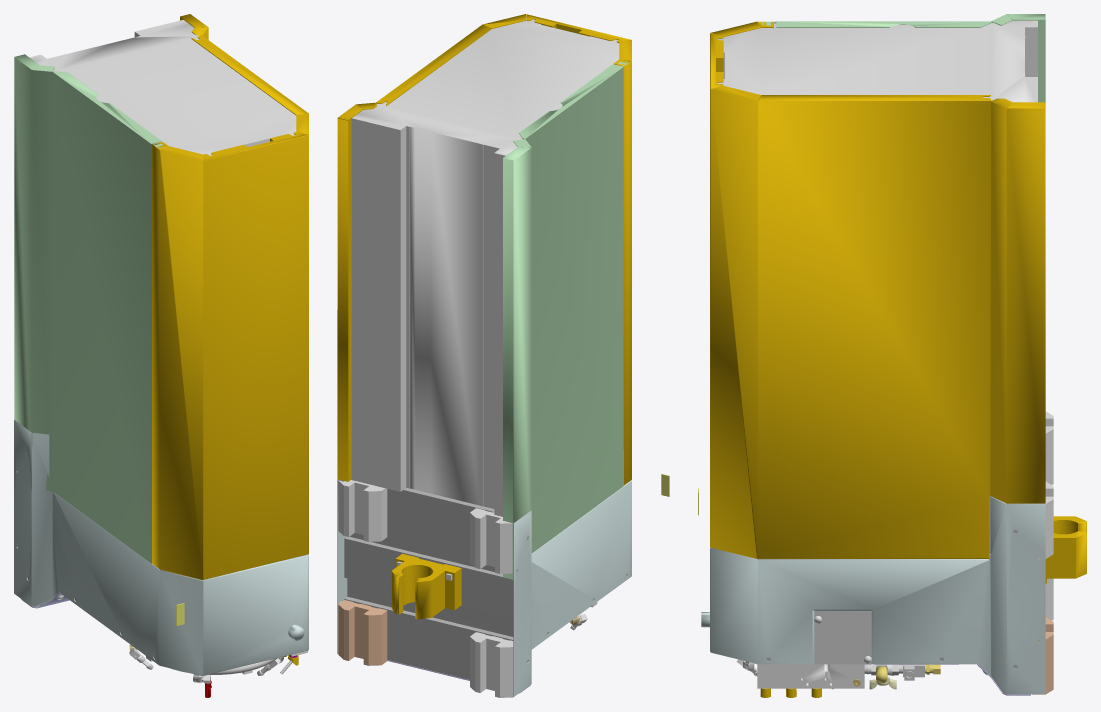
The model's file is head.dae.
The picture shows the model from 3 angles, left to right: view 1: azimuth 30°, elevation 25°; view 2: azimuth 150°, elevation 25°; view 3: azimuth 270°, elevation 25°; orthographic projection. The views are drawn at different scales.
Parts seen in each view (by area): view 1: Head; view 2: Head; view 3: Head.
Boxes of the visible parts, left/top/right/bottom form: Head: left=14, top=14, right=308, bottom=697; Head: left=337, top=14, right=669, bottom=697; Head: left=698, top=14, right=1086, bottom=697.
Bounding box in the file's own units: 0.4095 × 0.7139 × 1.26.
